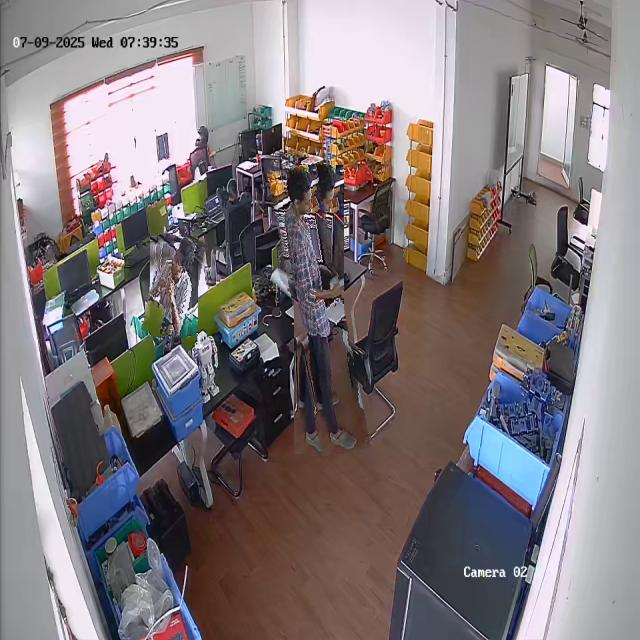person: (281, 164, 357, 455), (146, 234, 202, 338)
